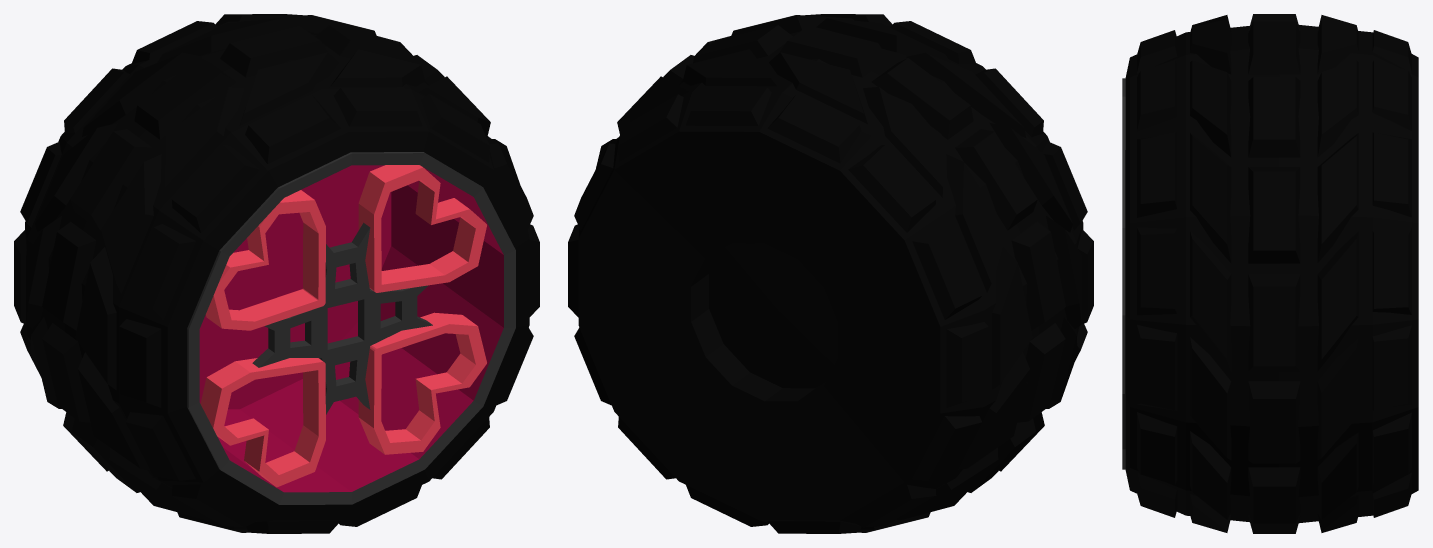
The model's file is wheel51.fbx.
3 renders of one model, left to right at view 1: azimuth 30°, elevation 25°; view 2: azimuth 150°, elevation 25°; view 3: azimuth 270°, elevation 25°, orthographic.
Visible parts, largest first — view 1: lanot_wheel50_L; view 2: lanot_wheel50_L; view 3: lanot_wheel50_L.
Boxes of the visible parts, x1=… form: lanot_wheel50_L: x1=14, y1=14, x2=539, y2=533; lanot_wheel50_L: x1=568, y1=14, x2=1093, y2=533; lanot_wheel50_L: x1=1122, y1=14, x2=1418, y2=533.
Bounding box in the file's own units: 163 × 161 × 91.94.
